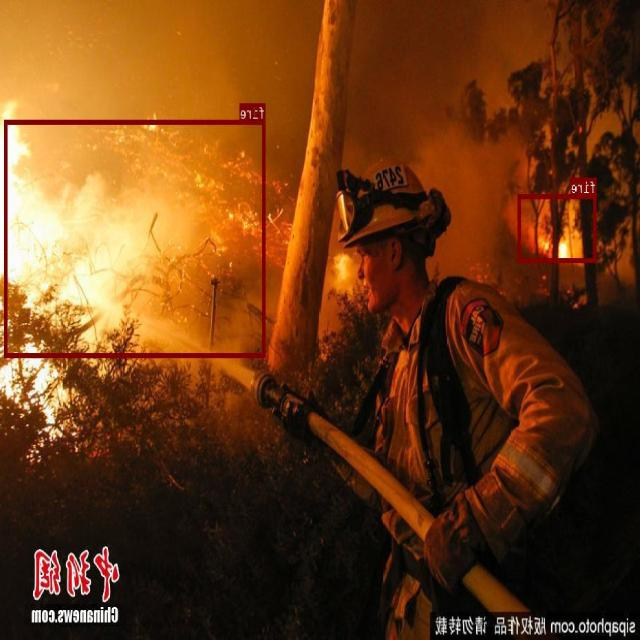fire: (5, 120, 266, 356), (518, 194, 597, 262)
